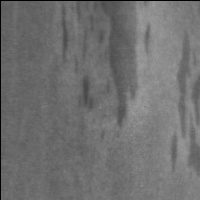inclusion: (92, 1, 154, 131), (167, 30, 200, 179), (59, 1, 98, 68), (73, 70, 99, 114)
